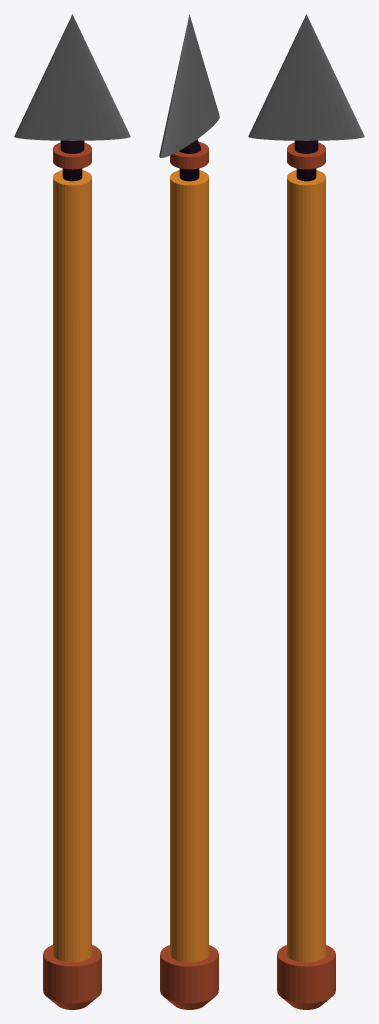
Rendered from lancetype1.fbx.
The picture shows the model from 3 angles, left to right: view 1: azimuth 90°, elevation 25°; view 2: azimuth 150°, elevation 25°; view 3: azimuth 270°, elevation 25°; orthographic projection.
Visible parts, largest first — view 1: Cylinder; view 2: Cylinder; view 3: Cylinder.
Boxes of the visible parts, x1,y1,x2,y2 form: Cylinder: (14,14,130,1009); Cylinder: (159,14,219,1009); Cylinder: (248,14,364,1009).
Size of the model in its own units: 21.71 by 403 by 43.08.
